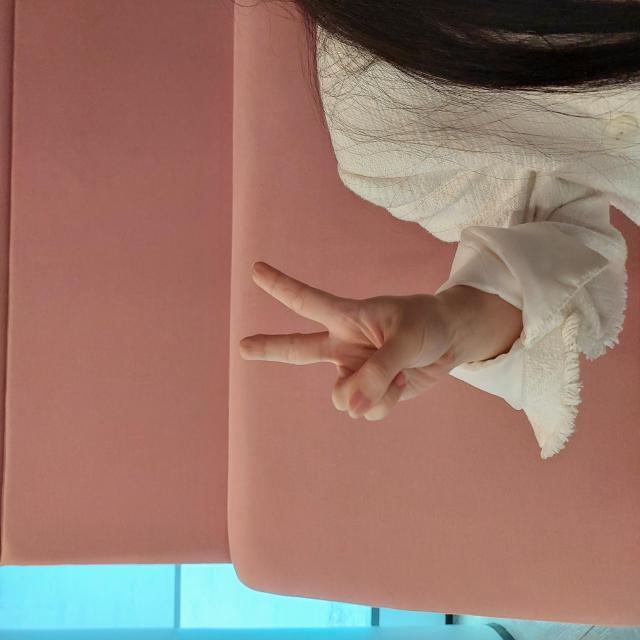V: (218, 237, 380, 445)
